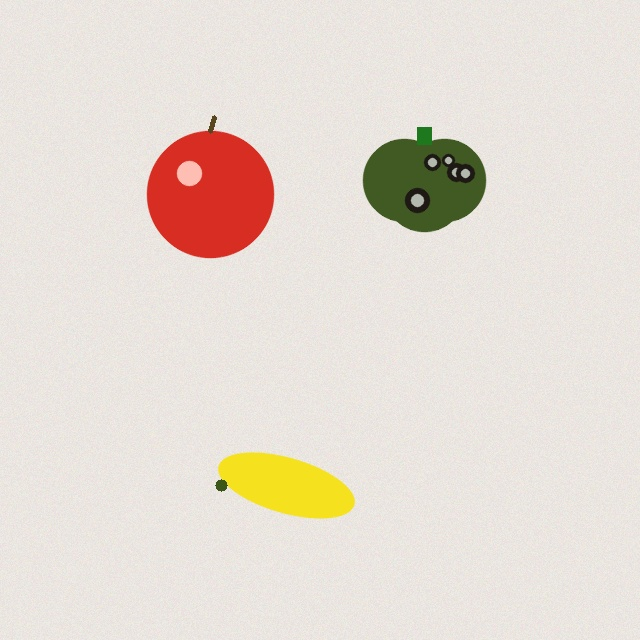Fresh apple: (147, 117, 273, 257)
Fresh banana: (213, 452, 359, 518)
Rotten bell pepper: (363, 127, 485, 231)
